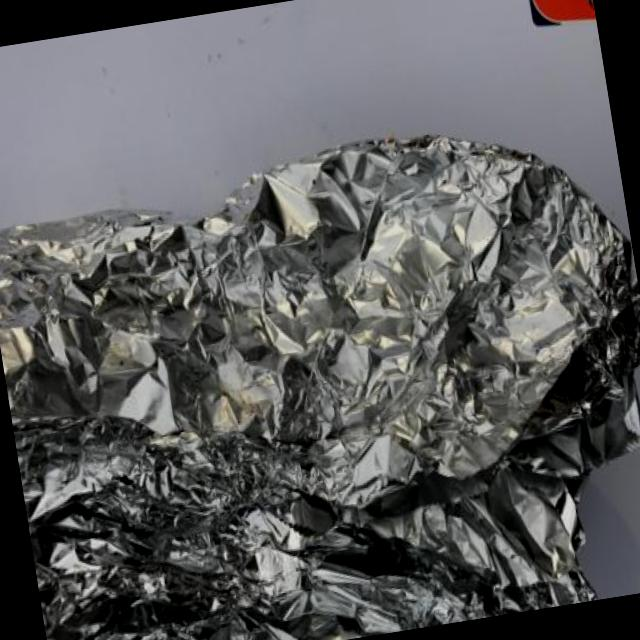kim_loai: (0, 136, 640, 640)
